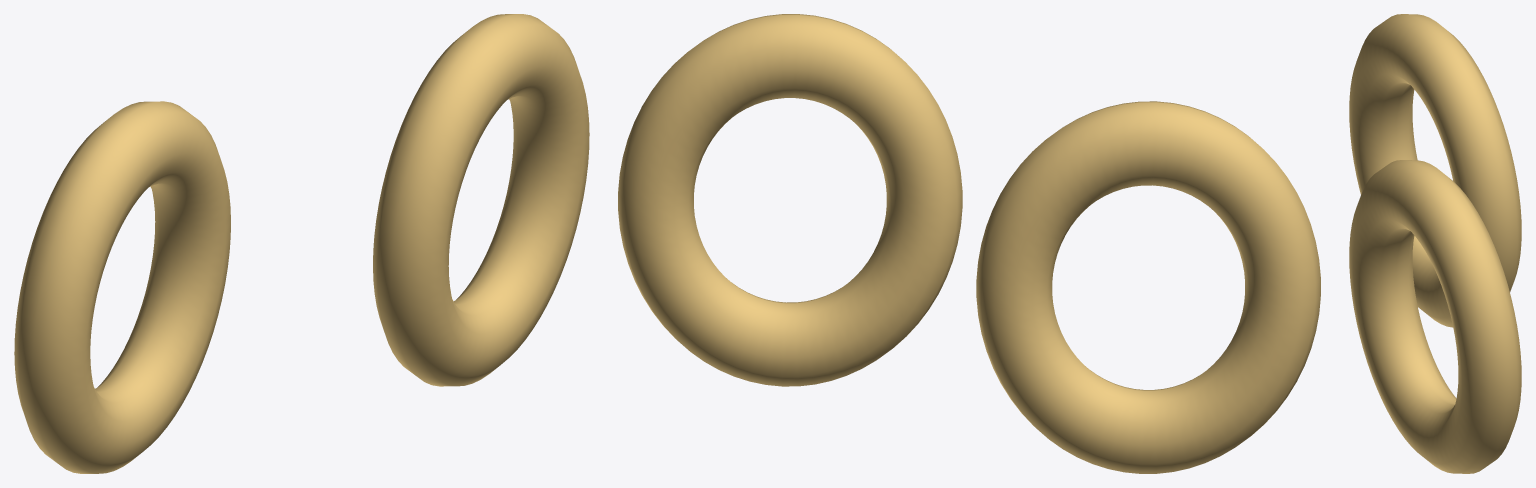
The picture shows the model from 3 angles, left to right: view 1: azimuth 30°, elevation 25°; view 2: azimuth 150°, elevation 25°; view 3: azimuth 270°, elevation 25°; orthographic projection. The views are drawn at different scales.
Size of the model in its own units: 2.1 by 1.15 by 0.5998.
